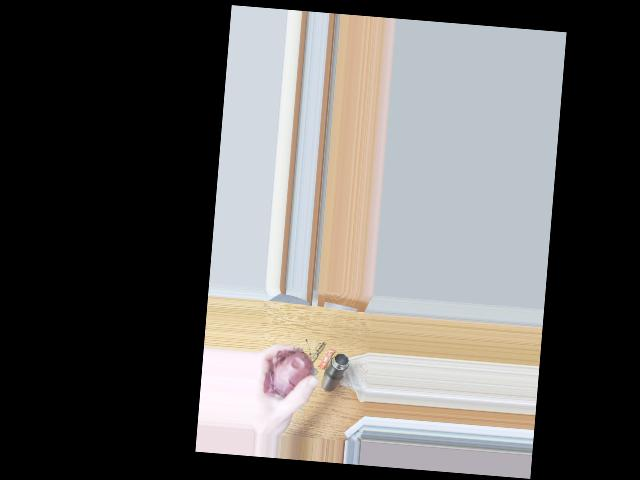onion: (267, 349, 315, 399)
